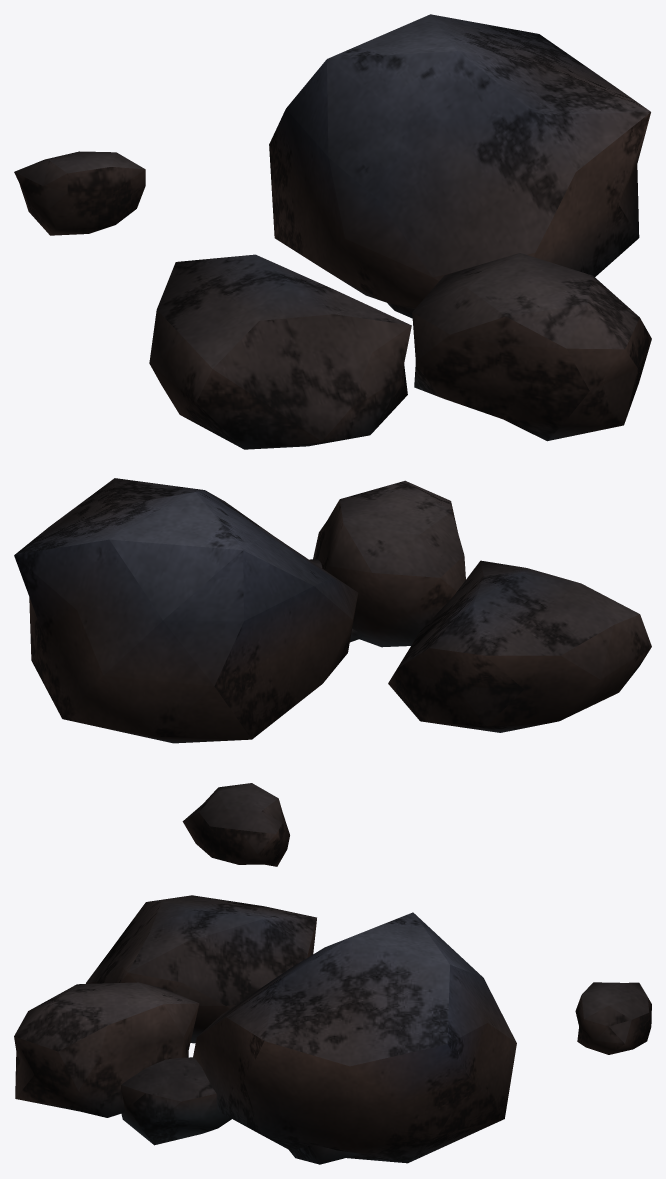
File: scree.glb
The picture shows the model from 3 angles, top to bottom: view 1: azimuth 30°, elevation 25°; view 2: azimuth 150°, elevation 25°; view 3: azimuth 270°, elevation 25°; orthographic projection. The views are drawn at different scales.
Parts seen in each view (by area): view 1: scree; view 2: scree; view 3: scree.
Boxes of the visible parts, bbox=[...] form: scree: bbox=[14, 14, 651, 449]; scree: bbox=[14, 478, 651, 866]; scree: bbox=[14, 895, 651, 1164].
Bounding box in the file's own units: 2.16 × 0.9433 × 2.67.
1 material, 1 textured.
